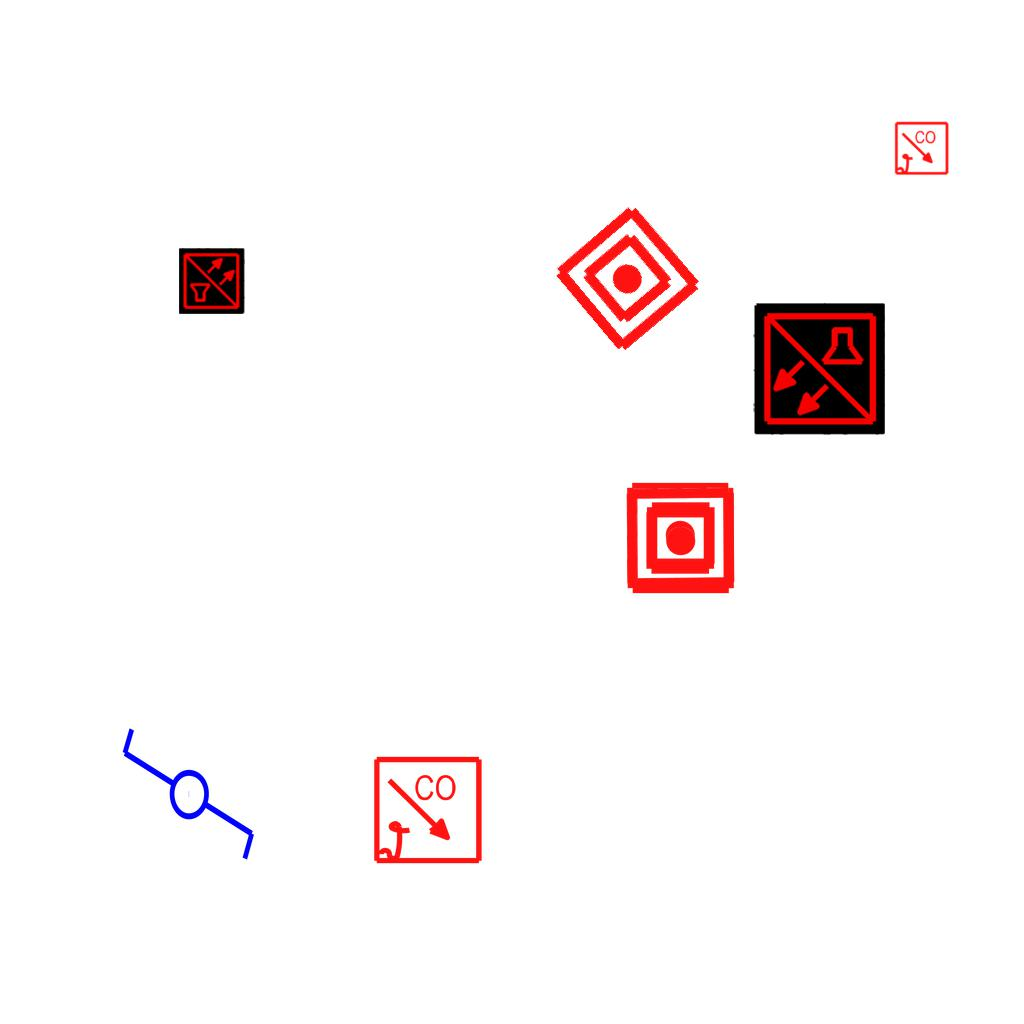NAM-Nichtautomatischer_Melder: (547, 198, 708, 359), (624, 479, 737, 592), (624, 484, 737, 597)
OKW_Multisensormelder_(Kombination_optischer_Rauch-Kahlenmonoxid_Waerme-Melder): (753, 303, 885, 435), (179, 248, 245, 314)
ROA_Rauchmelder_optisch_mit_Signalgeber_(Sockelsirene): (372, 755, 485, 868), (894, 121, 950, 177)
Wechselschalter: (115, 724, 259, 881)
